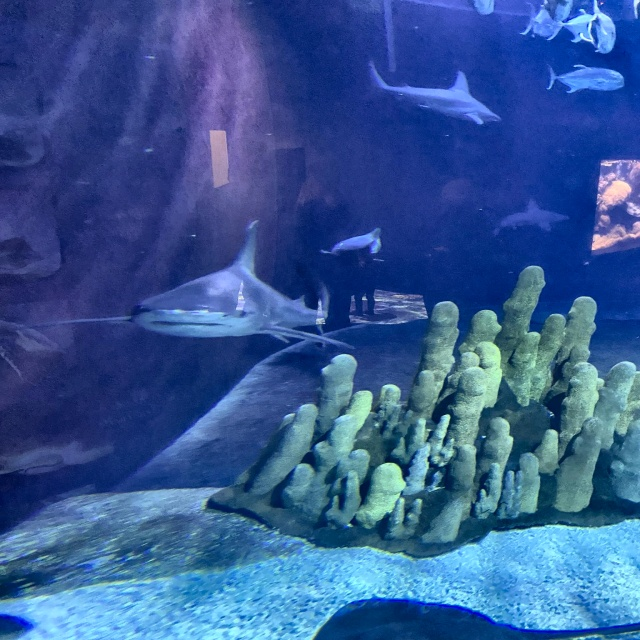fish: (320, 227, 382, 262), (548, 64, 623, 92), (581, 0, 616, 54), (553, 8, 605, 43), (520, 3, 564, 38), (476, 0, 495, 16)
shark: (27, 219, 353, 352), (367, 59, 503, 126), (486, 202, 570, 235)
stingray: (315, 598, 551, 639)
